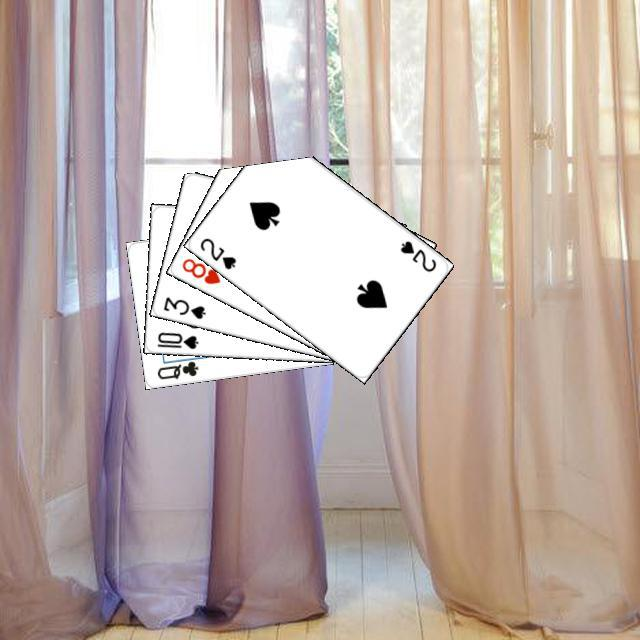10s: (152, 327, 200, 351)
2s: (395, 235, 438, 274), (195, 233, 238, 271)
3s: (158, 292, 207, 321)
8h: (177, 253, 222, 286)
Qc: (152, 352, 203, 381)
